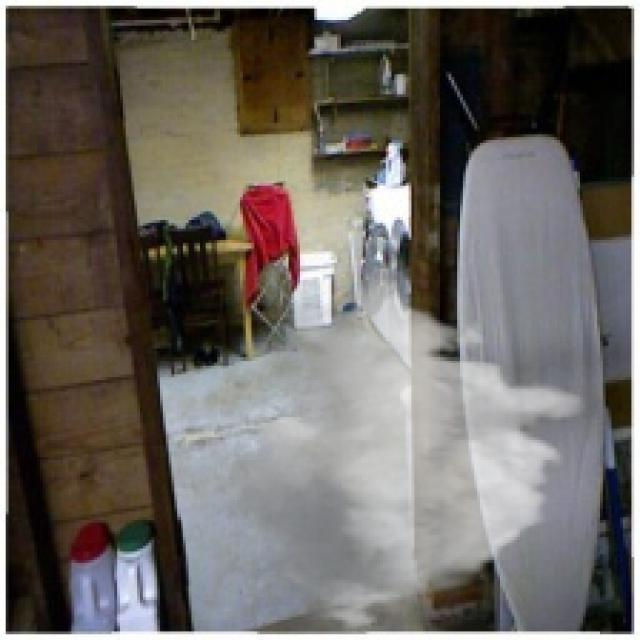Smoke: (212, 266, 592, 634)
